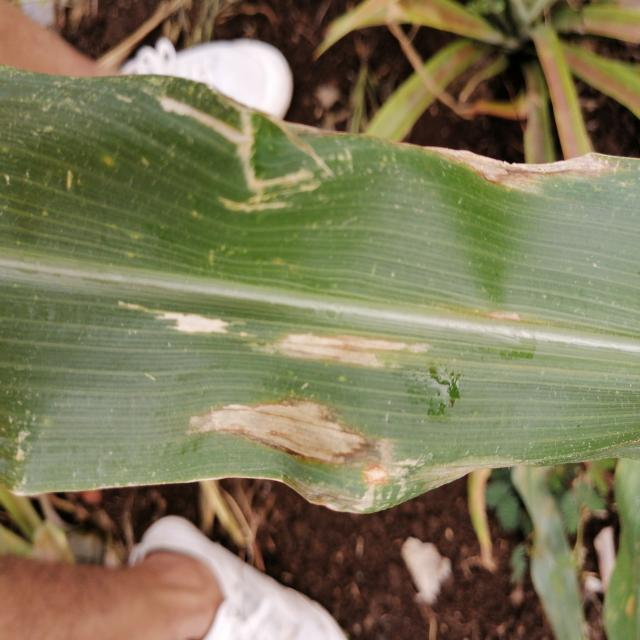Corn_Leaf_Blight: (85, 79, 469, 520)
